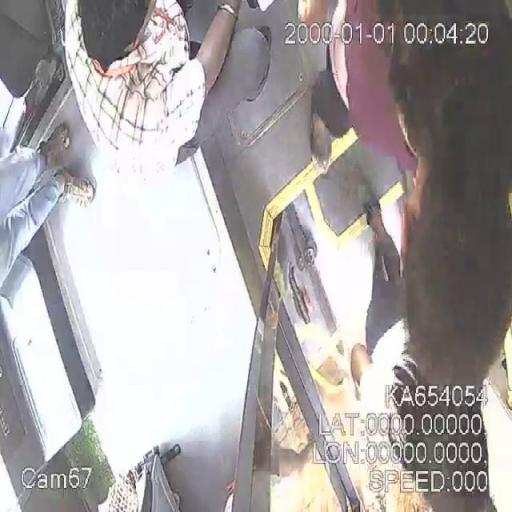persona: (328, 2, 510, 400), (60, 0, 243, 180), (1, 120, 96, 287)
